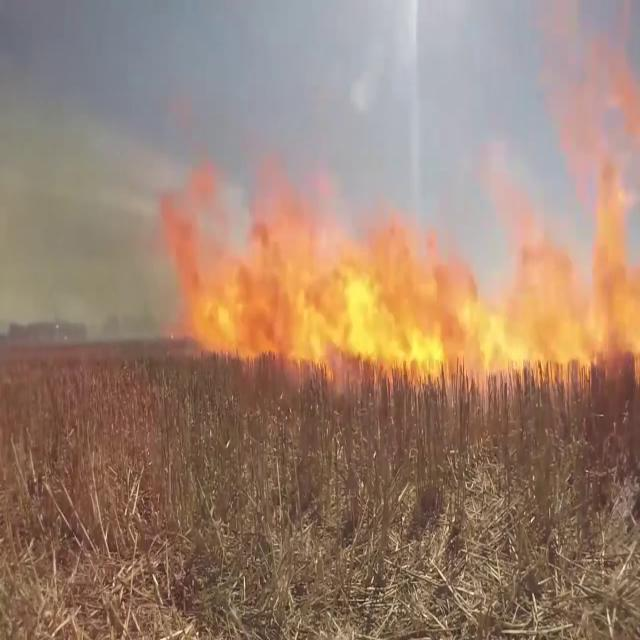Fire: (158, 174, 631, 392)
Smoke: (0, 38, 174, 338)
